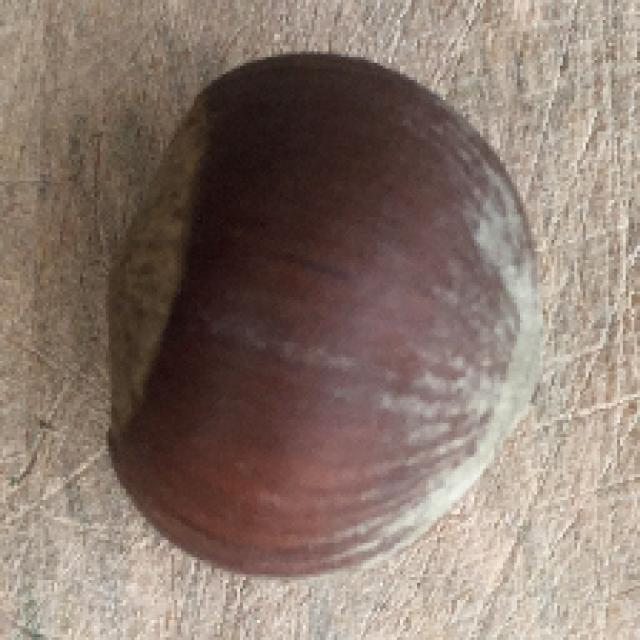DamagedHazelnut: (107, 53, 546, 580)
